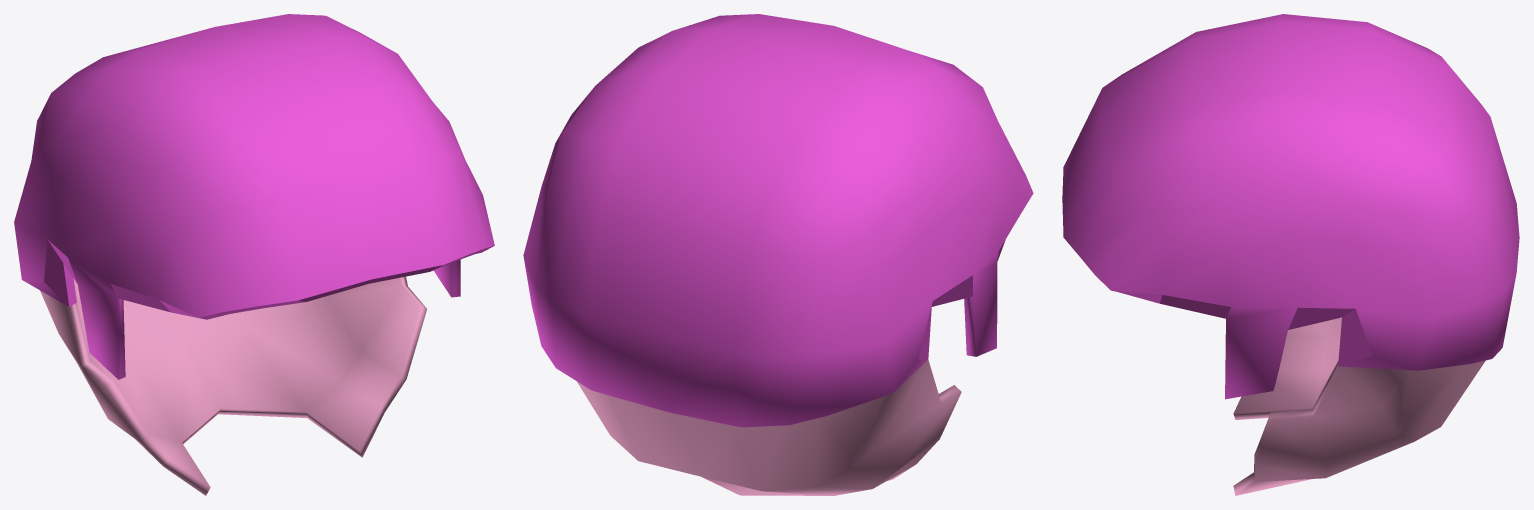
The model's file is character hair 03.fbx.
3 renders of one model, left to right at view 1: azimuth 30°, elevation 25°; view 2: azimuth 150°, elevation 25°; view 3: azimuth 270°, elevation 25°, orthographic. The views are drawn at different scales.
Visible parts, largest first — view 1: hair03; view 2: hair03; view 3: hair03.
Boxes of the visible parts, x1,y1,x2,y2 form: hair03: [14, 14, 494, 495]; hair03: [523, 14, 1033, 495]; hair03: [1062, 14, 1519, 495].
Bounding box in the file's own units: 0.4093 × 0.4334 × 0.4414.
